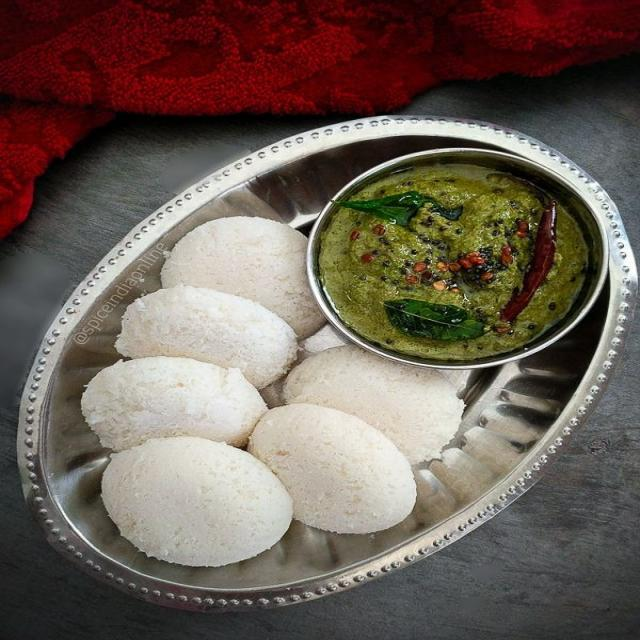idly: (101, 437, 294, 563), (248, 405, 417, 534), (281, 348, 463, 463), (160, 216, 323, 336), (114, 286, 297, 388), (84, 355, 265, 451)
puthina chutney: (310, 154, 586, 358)
